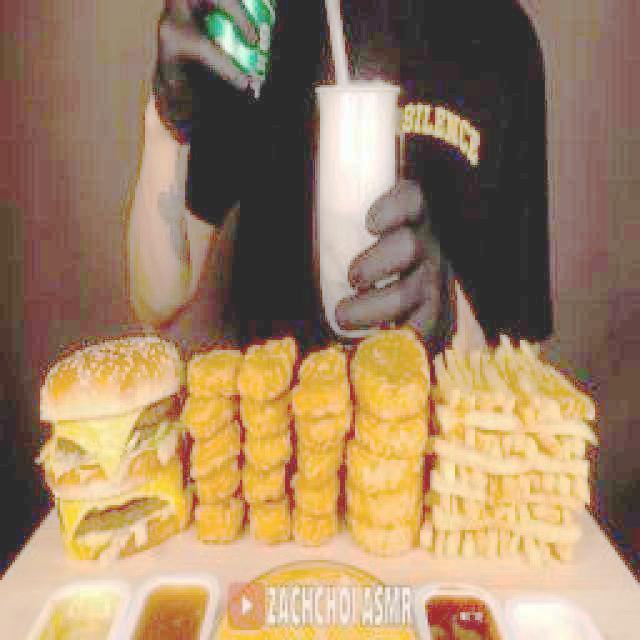burger: (39, 341, 191, 565)
chicken_nuggets: (352, 332, 420, 555), (189, 349, 241, 544), (242, 340, 291, 543), (296, 350, 347, 545), (356, 331, 429, 417), (291, 349, 349, 418), (348, 441, 423, 491), (353, 412, 427, 458), (241, 339, 294, 397), (348, 488, 421, 527), (189, 429, 239, 479), (190, 351, 239, 398), (347, 526, 421, 557), (238, 396, 294, 436), (292, 441, 344, 483), (292, 472, 340, 516), (295, 412, 353, 446), (241, 433, 294, 470), (183, 400, 233, 439), (248, 503, 292, 547), (194, 505, 242, 543), (291, 513, 337, 547), (196, 468, 239, 504), (245, 474, 287, 503)
french fries: (434, 337, 594, 567)
ketchup: (137, 588, 202, 640)
